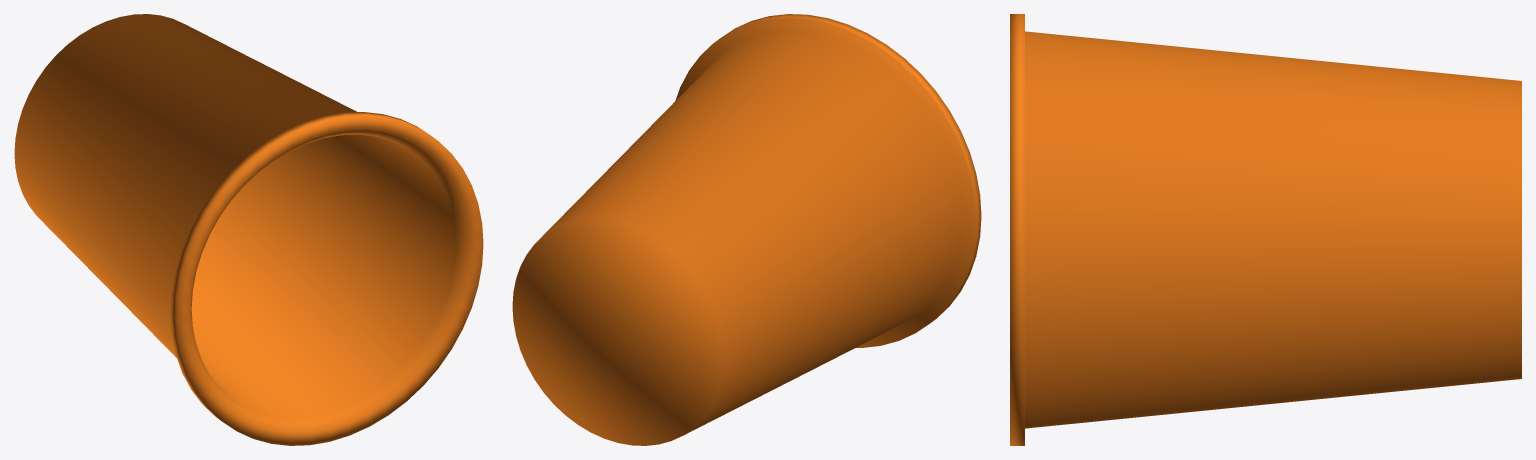
File: Cup_Orange.obj
3 views of the same model, side by side, from view 1: azimuth 30°, elevation 25°; view 2: azimuth 150°, elevation 25°; view 3: azimuth 270°, elevation 25° (orthographic). The views are drawn at different scales.
Visible parts, largest first — view 1: Cup_Orange; view 2: Cup_Orange; view 3: Cup_Orange.
Part boxes in pixels (x1,y1,x2,y2): Cup_Orange: (14, 14, 483, 445); Cup_Orange: (512, 14, 981, 445); Cup_Orange: (1010, 14, 1521, 445).
Size of the model in its own units: 0.087 by 0.087 by 0.103.
